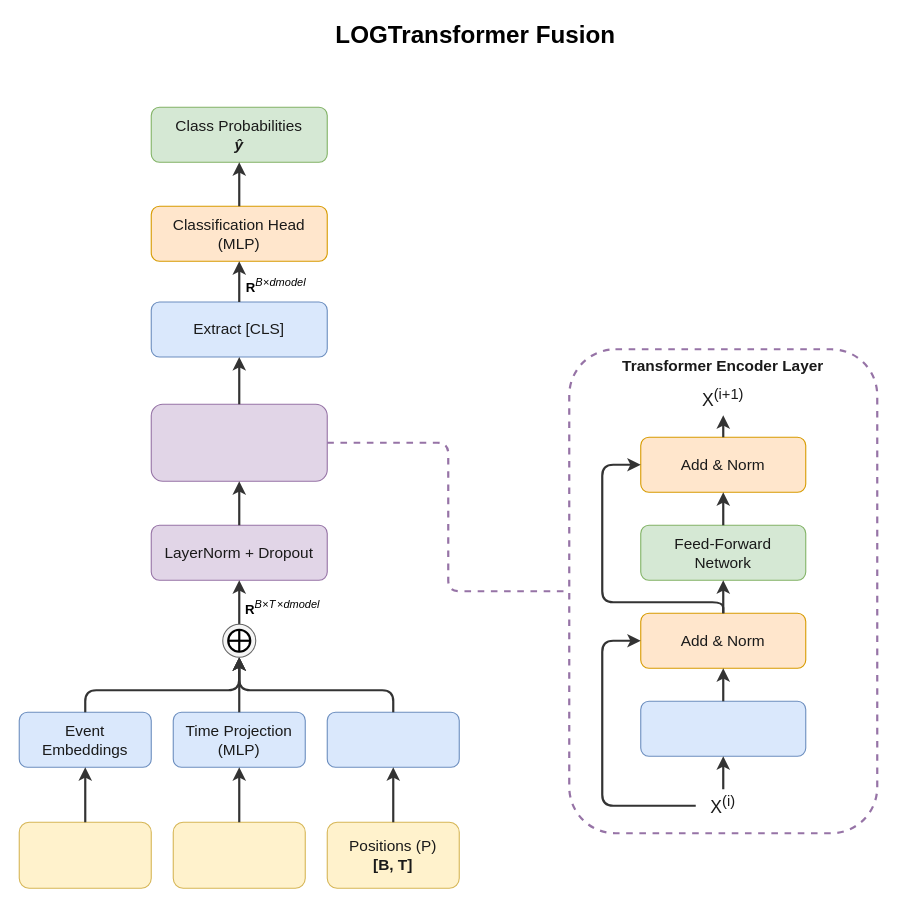
Some shapes in this 898 by 908 pixel diagram are drawn without their labels. The centre of each missing label's shape, as x and y in pixels:
"Event Tokens (E) [B, T]" belongs at (84,854).
"Multi-Head Self-Attention" belongs at (723,728).
"Positional Embeddings" belongs at (392,739).
"Time Feats (t) [B, T, 4]" belongs at (238,854).
"Transformer Encoder (N = 4 Layers)" belongs at (238,442).
